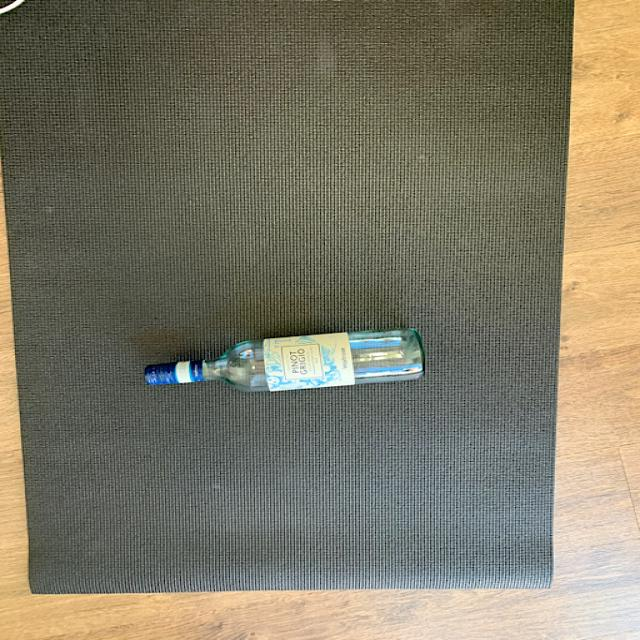litter: (138, 323, 432, 409)
